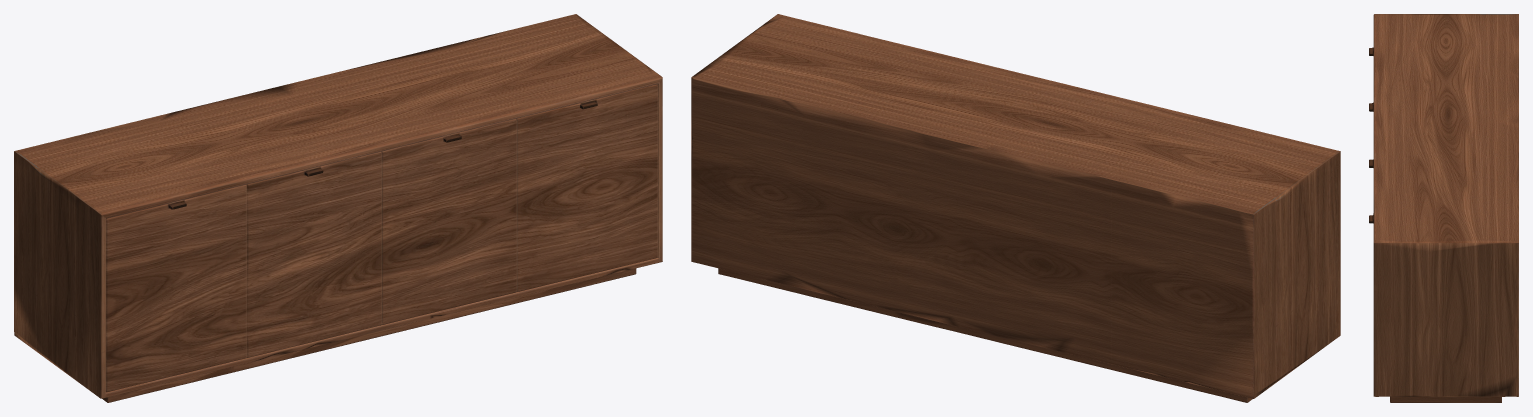
File: nord_sideboard.glb
3 renders of one model, left to right at view 1: azimuth 30°, elevation 25°; view 2: azimuth 150°, elevation 25°; view 3: azimuth 270°, elevation 25°, orthographic. The views are drawn at different scales.
Size of the model in its own units: 1.9 by 0.6465 by 0.5255.
Materials: 1 (1 with a texture image).
